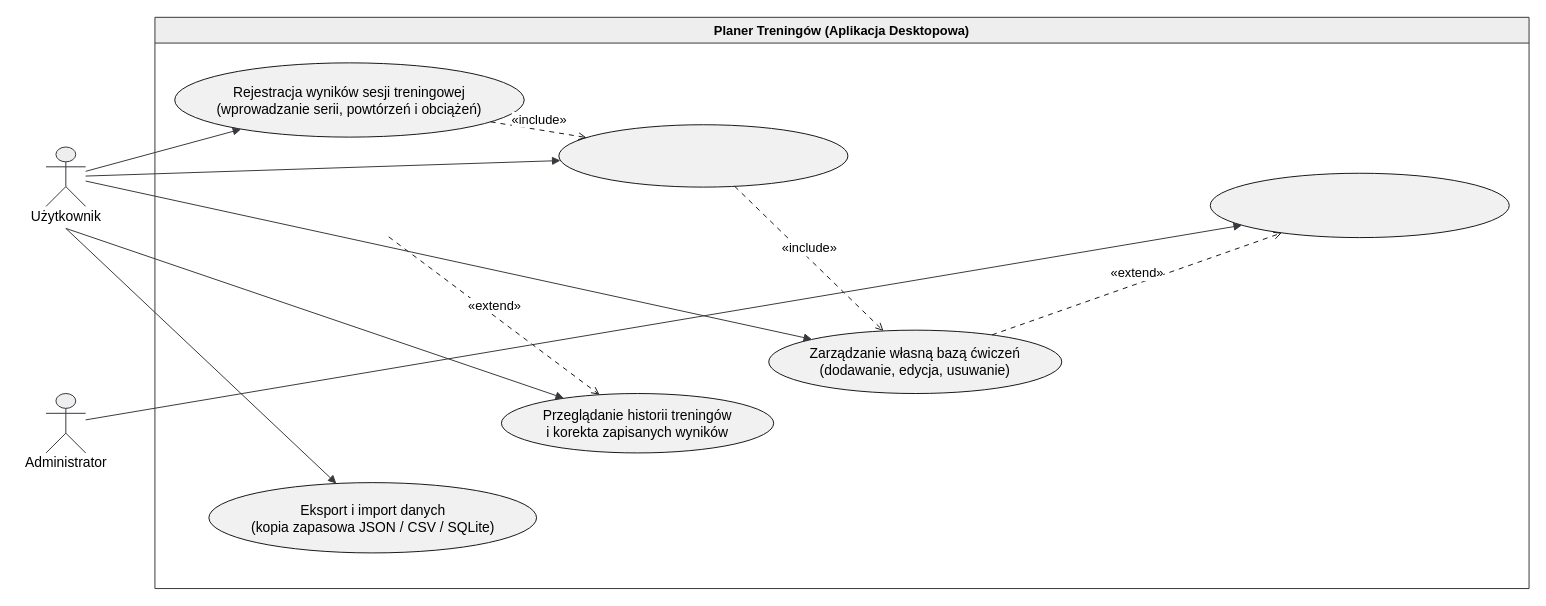
The diagram is 1546 pixels wide and 606 high, and some of its shapes have lost their labels. The centre of each missing label's shape, as x and y in pixels:
"Tworzenie i edycja planu treningowego" belongs at (703,155).
"Zarządzanie globalną bazą ćwiczeń i moderacja kont" belongs at (1359,205).
